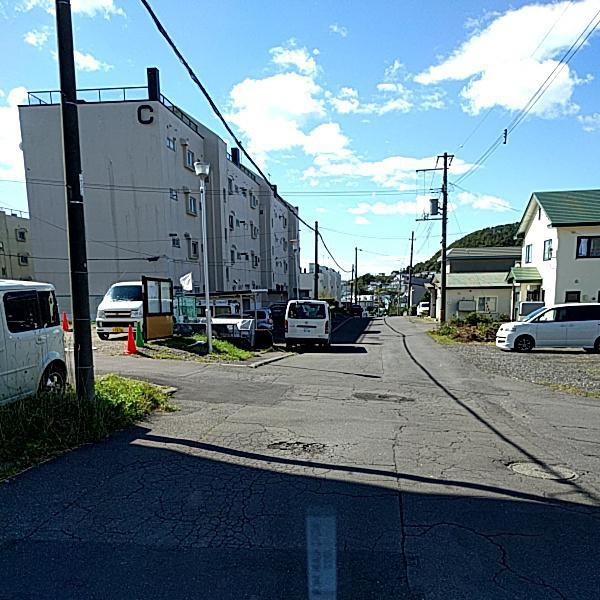D20: (342, 422, 594, 599), (28, 419, 341, 549)
D40: (265, 431, 331, 458)
D50: (508, 457, 578, 481)
